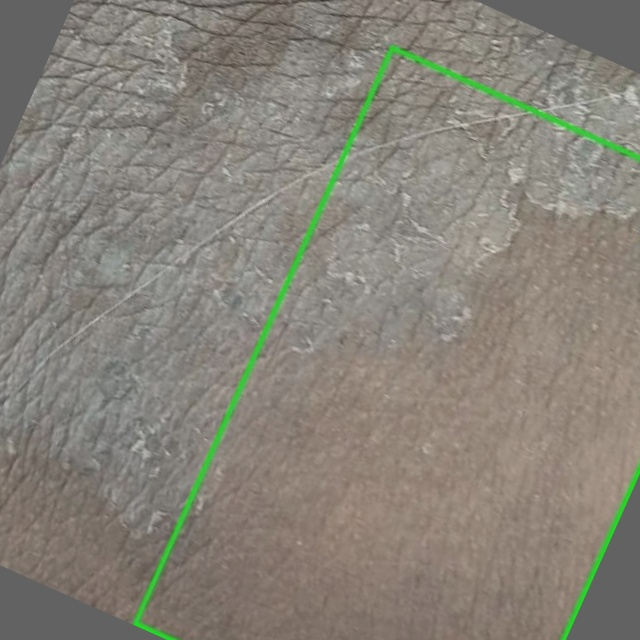Eczema: (134, 47, 639, 639)
